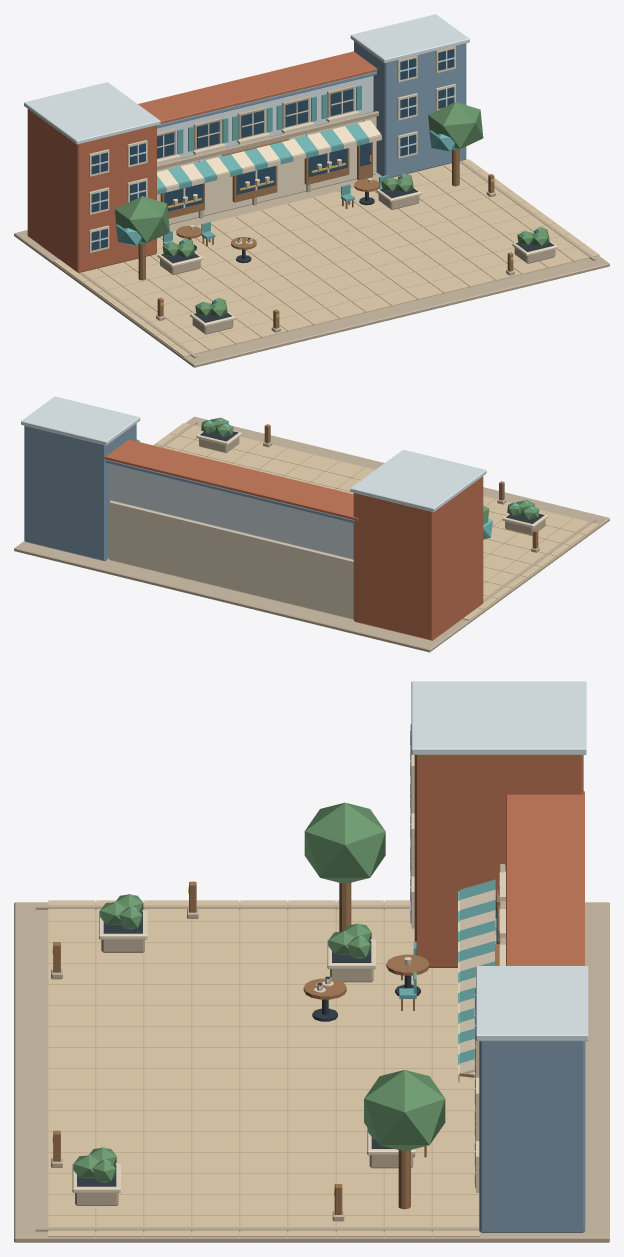
File: story_courtyard_v01.glb
The picture shows the model from 3 angles, top to bottom: view 1: azimuth 30°, elevation 25°; view 2: azimuth 150°, elevation 25°; view 3: azimuth 270°, elevation 25°; orthographic projection. The views are drawn at different scales.
Parts seen in each view (by area): view 1: Courtyard paving, Warm campus architecture, Cafe fittings and awning, Courtyard planters and trees, Coffee terrace furniture, Courtyard perimeter details; view 2: Warm campus architecture, Courtyard paving, Courtyard planters and trees, Courtyard perimeter details; view 3: Courtyard paving, Warm campus architecture, Courtyard planters and trees, Cafe fittings and awning, Coffee terrace furniture, Courtyard perimeter details.
Boxes of the visible parts, <box> form: Courtyard paving: <box>14,158,609,367</box>; Warm campus architecture: <box>24,14,469,272</box>; Cafe fittings and awning: <box>157,85,381,218</box>; Courtyard planters and trees: <box>114,102,557,334</box>; Coffee terrace furniture: <box>163,175,388,263</box>; Courtyard perimeter details: <box>156,174,514,332</box>; Warm campus architecture: <box>21,396,486,640</box>; Courtyard paving: <box>14,416,609,652</box>; Courtyard planters and trees: <box>136,417,547,539</box>; Courtyard perimeter details: <box>263,424,539,552</box>; Courtyard paving: <box>14,900,609,1242</box>; Warm campus architecture: <box>410,681,588,1232</box>; Courtyard planters and trees: <box>72,802,445,1209</box>; Cafe fittings and awning: <box>458,872,505,1082</box>; Coffee terrace furniture: <box>303,941,429,1157</box>; Courtyard perimeter details: <box>51,881,344,1221</box>.
Bounding box in the file's own units: 24 × 7.63 × 18.
Materials: 1 (1 with a texture image).
